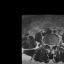CCS_normal: (50, 43, 52, 50)
LFS_stenosis: (53, 43, 55, 48)
LLS_normal: (51, 43, 53, 48)
RFS_severe_stenosis: (46, 42, 48, 47)
RLS_normal: (48, 43, 50, 49)
